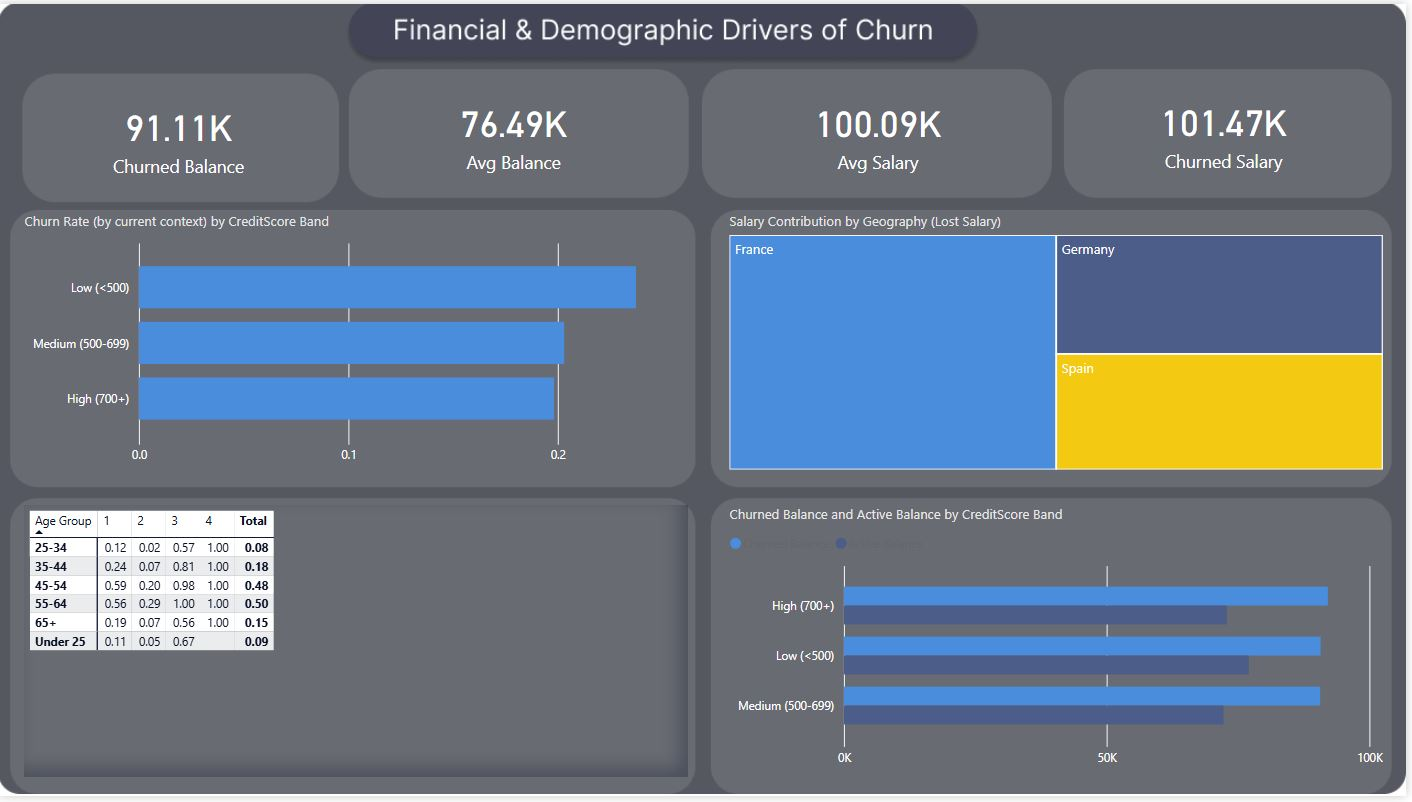

This screenshot's page, from the dashboard's own definition file:
{"tool":"powerbi","page":{"name":"Page 3","canvas":[1280,720],"ordinal":2},"visuals":[{"type":"card","fields":{"Values":["Bank_Churn.Churned Balance"]},"box":[38.2,63.6,251.8,115.5],"z":0},{"type":"card","fields":{"Values":["Bank_Churn.Churned Salary"]},"box":[986.4,63.6,255.5,105.5],"z":1000},{"type":"card","fields":{"Values":["Bank_Churn.Avg Balance"]},"box":[328.2,63.6,280.9,107.3],"z":2000},{"type":"card","fields":{"Values":["Bank_Churn.Avg Salary"]},"box":[660,63.6,280,107.3],"z":3000},{"type":"clusteredBarChart","fields":{"Category":["Bank_Churn.CreditScore Band"],"Y":["Bank_Churn.Churn Rate (by current context)"]},"box":[19.1,189.1,600,239.1],"z":5000},{"type":"clusteredBarChart","fields":{"Y":["Bank_Churn.Churned Balance","Bank_Churn.Active Balance"],"Category":["Bank_Churn.CreditScore Band"]},"box":[660,455.5,603.6,247.3],"z":5001},{"type":"treemap","title":"Salary Contribution by Geography (Lost Salary)","fields":{"Values":["Sum(Bank_Churn.EstimatedSalary)"],"Group":["Bank_Churn.Geography (groups)"]},"box":[660,189.1,603.6,239.1],"z":5002},{"type":"pivotTable","fields":{"Rows":["Bank_Churn.Age Group"],"Columns":["Bank_Churn.NumOfProducts"],"Values":["Bank_Churn.Churn Rate %"]},"box":[23.6,455.5,603.6,247.3],"z":5003}]}

Visuals, with their boxes in screenshot pixels (x1, y1, x2, y2), scaled from the page's 1280x720 canvas onto the 1412x802 screenshot:
card - Bank_Churn.Churned Balance: 42/71/320/199
card - Bank_Churn.Churned Salary: 1088/71/1370/188
card - Bank_Churn.Avg Balance: 362/71/672/190
card - Bank_Churn.Avg Salary: 728/71/1037/190
clusteredBarChart - Bank_Churn.CreditScore Band x Bank_Churn.Churn Rate (by current context): 21/211/683/477
clusteredBarChart - Bank_Churn.Churned Balance x Bank_Churn.Active Balance: 728/507/1394/783
"Salary Contribution by Geography (Lost Salary)" treemap: 728/211/1394/477
pivotTable - Bank_Churn.Age Group x Bank_Churn.NumOfProducts: 26/507/692/783
